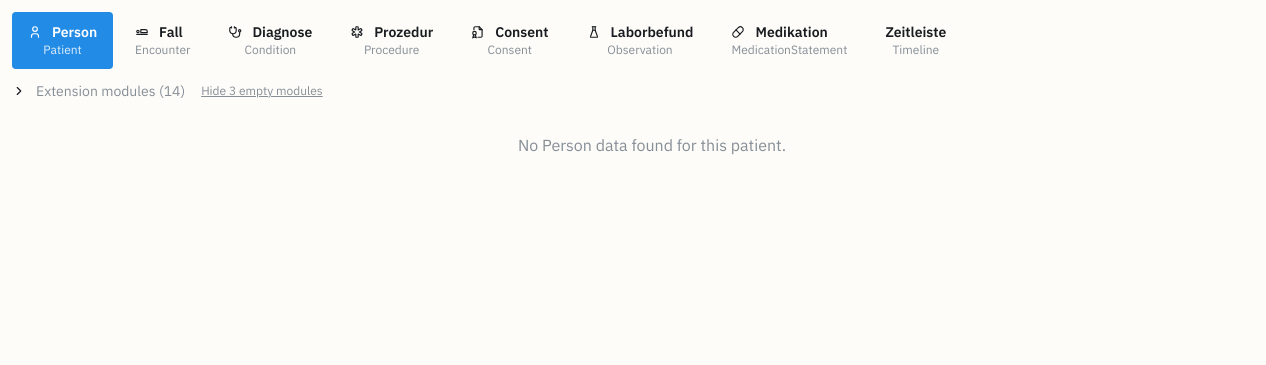
Phase 42 (MII-EXT-15) — pre-probe counts on extension tabs › base exemption — base tabs receive no count or testid
Expand so extension pills are present too.
Click the button "Extension modules (14)". click: (99, 91)
box: [12,81,185,101]
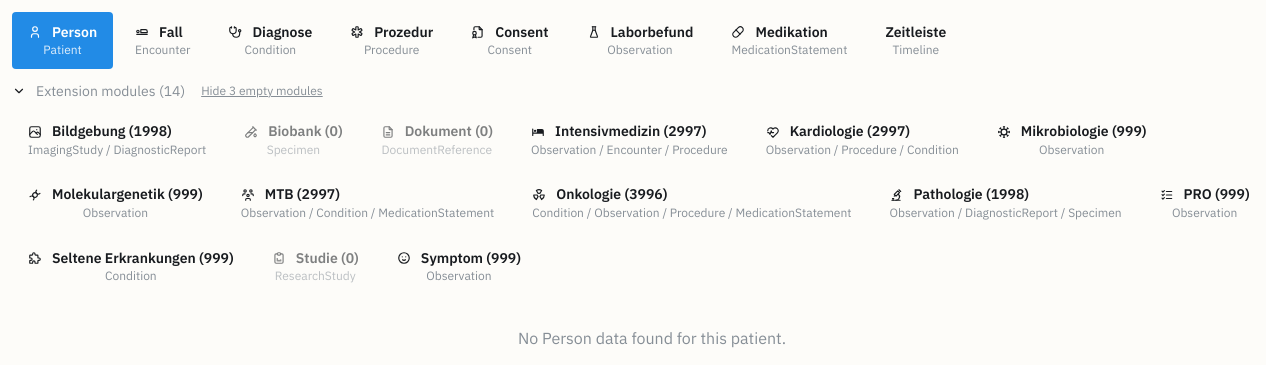
Expected: the text "Person" is shown, [52,22,97,42]
Now the text "Onkologie (3996)" is shown, box [556,184,668,205]
Now the number of elements with test id "extension-tab-pill" is 14
